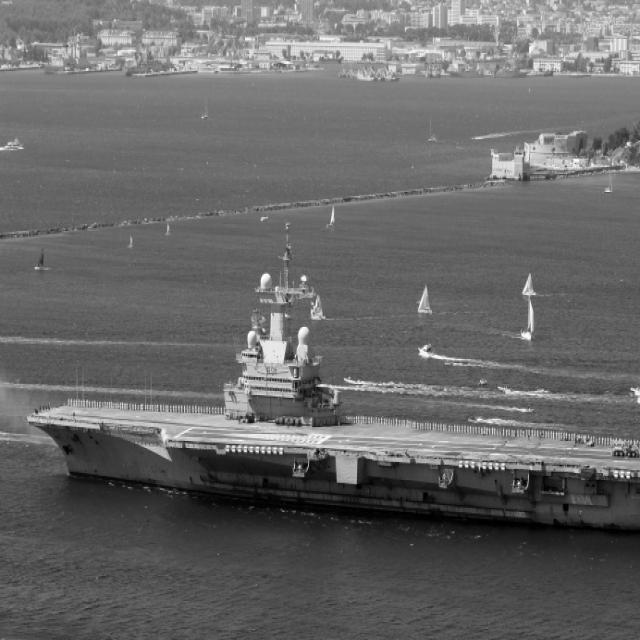Portanaves: (25, 218, 640, 542)
